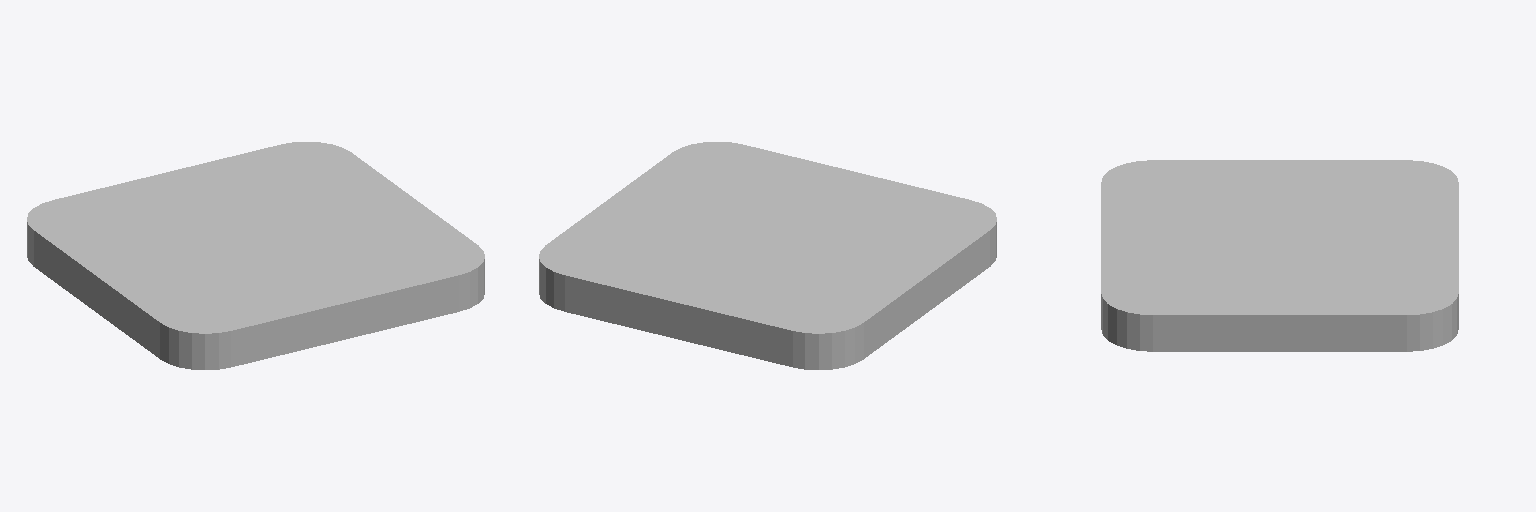
File: original-51.obj
The picture shows the model from 3 angles: view 1: azimuth 30°, elevation 25°; view 2: azimuth 150°, elevation 25°; view 3: azimuth 270°, elevation 25°; orthographic projection.
Visible parts, largest first — view 1: mesh50/mesh50-geometry#mesh50-geometry; view 2: mesh50/mesh50-geometry#mesh50-geometry; view 3: mesh50/mesh50-geometry#mesh50-geometry.
Part boxes in pixels (left/top/right/bottom): mesh50/mesh50-geometry#mesh50-geometry: left=27, top=142, right=484, bottom=369; mesh50/mesh50-geometry#mesh50-geometry: left=539, top=142, right=996, bottom=369; mesh50/mesh50-geometry#mesh50-geometry: left=1101, top=160, right=1458, bottom=351.
Size of the model in its own units: 0.0583 by 0.0064 by 0.0568.